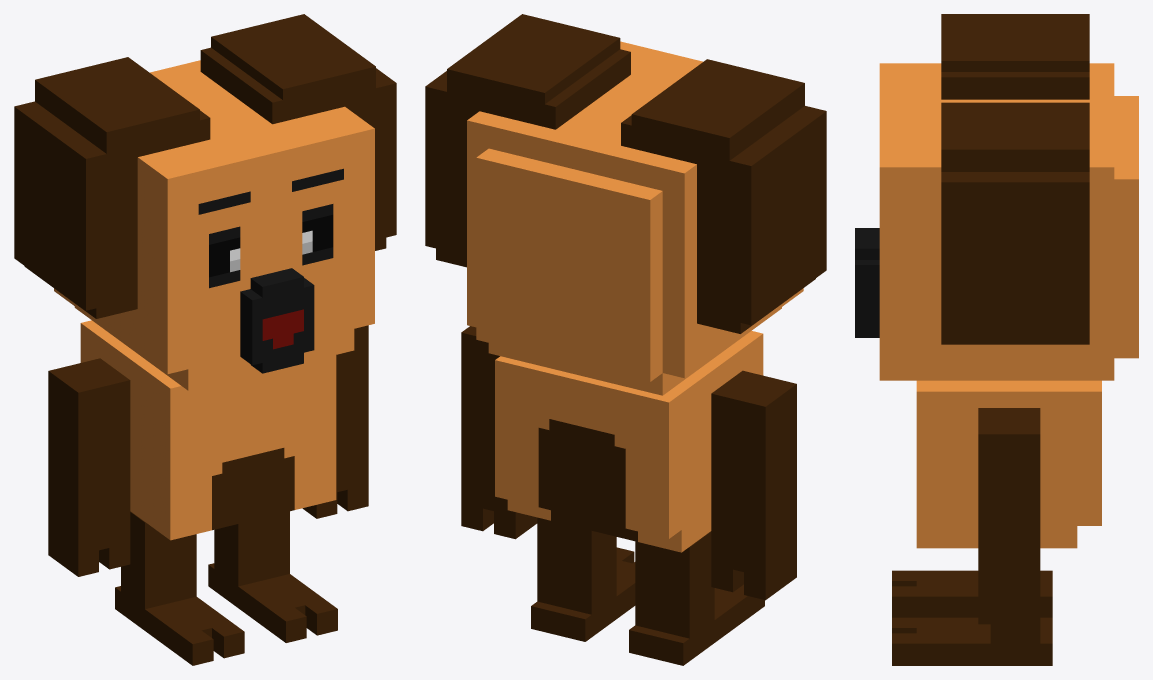
The model's file is Coala.fbx.
3 views of the same model, side by side, from view 1: azimuth 30°, elevation 25°; view 2: azimuth 150°, elevation 25°; view 3: azimuth 270°, elevation 25° (orthographic). The views are drawn at different scales.
Parts seen in each view (by area): view 1: head, body, right_arm_1, right_leg, left_leg, right_hand, left_arm, left_hand; view 2: head, body, right_arm_1, right_leg, left_leg, right_hand, left_arm, left_hand; view 3: head, body, left_arm, left_leg, left_hand, right_leg.
Part boxes in pixels (<box>): head: <box>14,14,396,390</box>; body: <box>80,320,336,540</box>; right_arm_1: <box>48,358,130,500</box>; right_leg: <box>115,511,244,665</box>; left_leg: <box>208,511,337,642</box>; right_hand: <box>48,479,130,576</box>; left_arm: <box>336,325,368,437</box>; left_hand: <box>302,430,368,518</box>; head: <box>425,14,826,395</box>; body: <box>495,331,763,552</box>; right_arm_1: <box>711,370,796,520</box>; right_leg: <box>629,531,764,665</box>; left_leg: <box>531,517,635,641</box>; right_hand: <box>711,498,796,600</box>; left_arm: <box>461,326,499,454</box>; left_hand: <box>461,446,537,539</box>; head: <box>855,14,1138,380</box>; body: <box>916,380,1101,548</box>; left_arm: <box>978,408,1040,545</box>; left_leg: <box>892,617,1052,665</box>; left_hand: <box>978,546,1040,624</box>; right_leg: <box>892,570,1052,617</box>.
Bounding box in the file's own units: 30 × 49 × 23.
